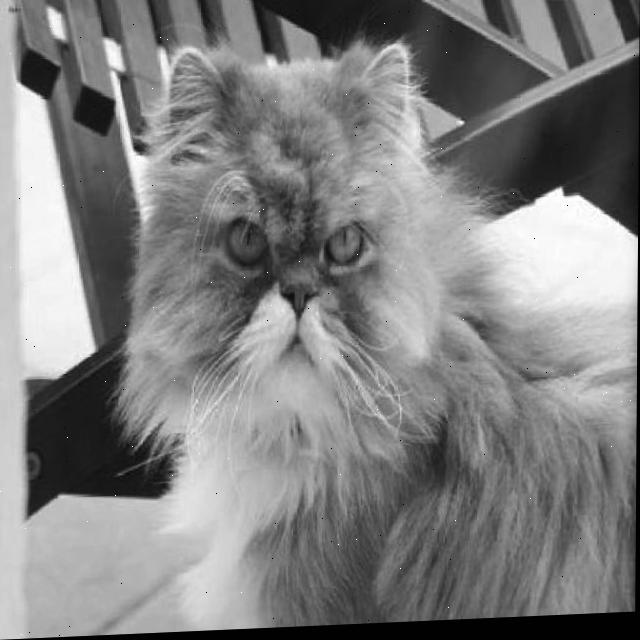Cat: (123, 27, 638, 633)
